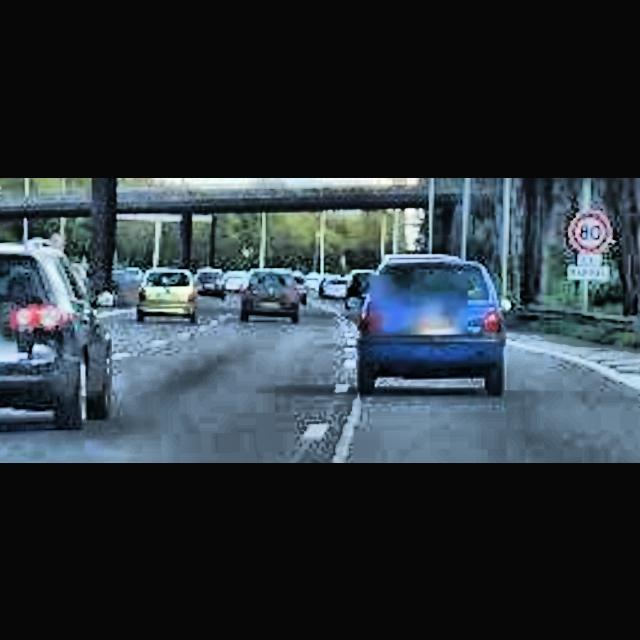speed_80: (570, 213, 610, 250)
